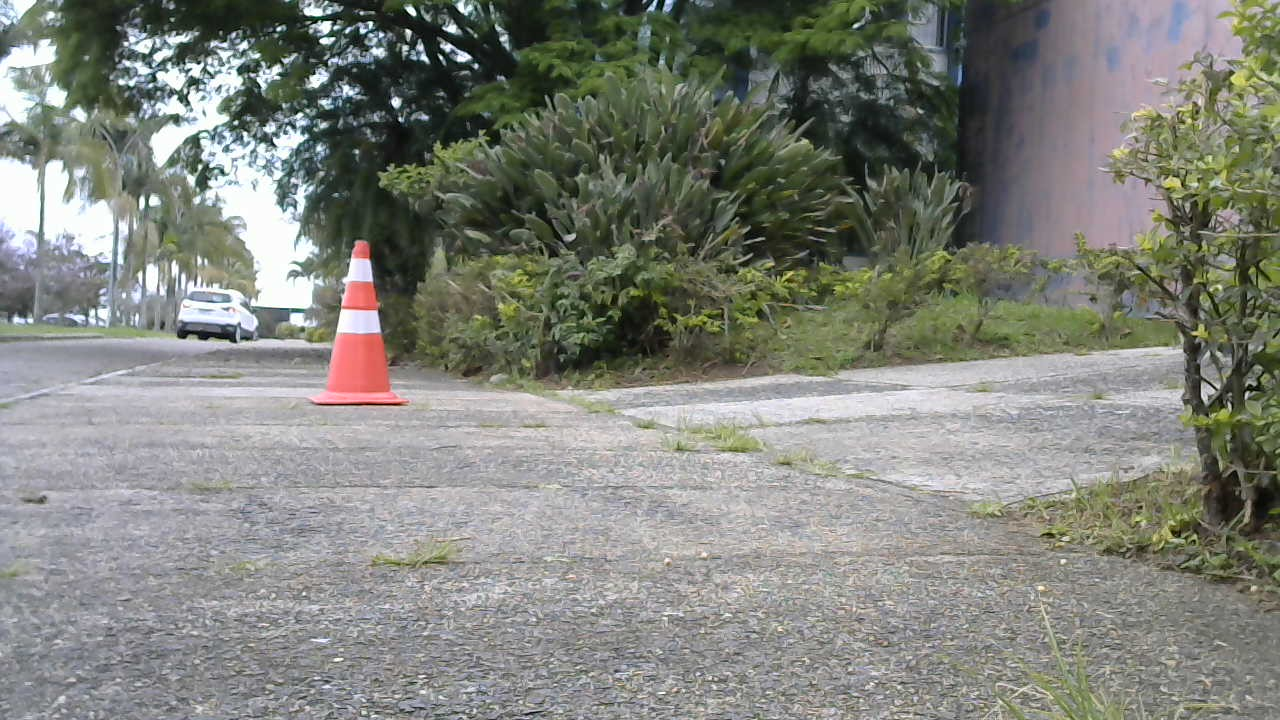cone: (309, 239, 402, 408)
